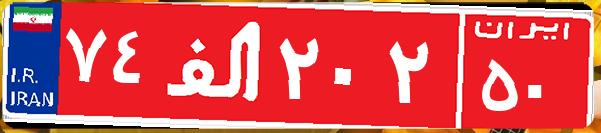0: (330, 28, 385, 110), (525, 38, 570, 115)
2: (385, 28, 445, 110), (273, 28, 330, 110)
4: (110, 28, 158, 105)
5: (475, 38, 525, 113)
7: (57, 26, 110, 107)
الف: (158, 15, 273, 115)
